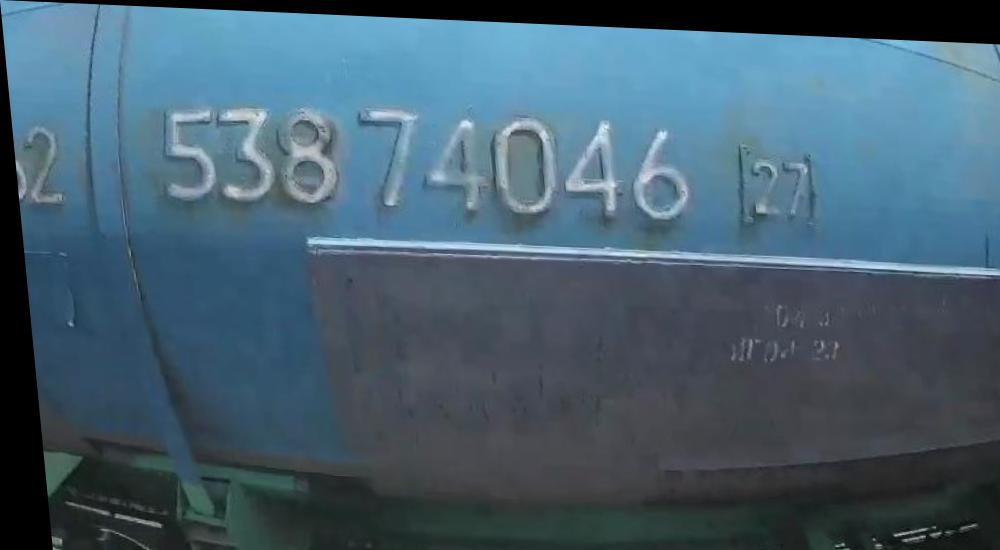Wagon-number: (150, 91, 699, 226)
